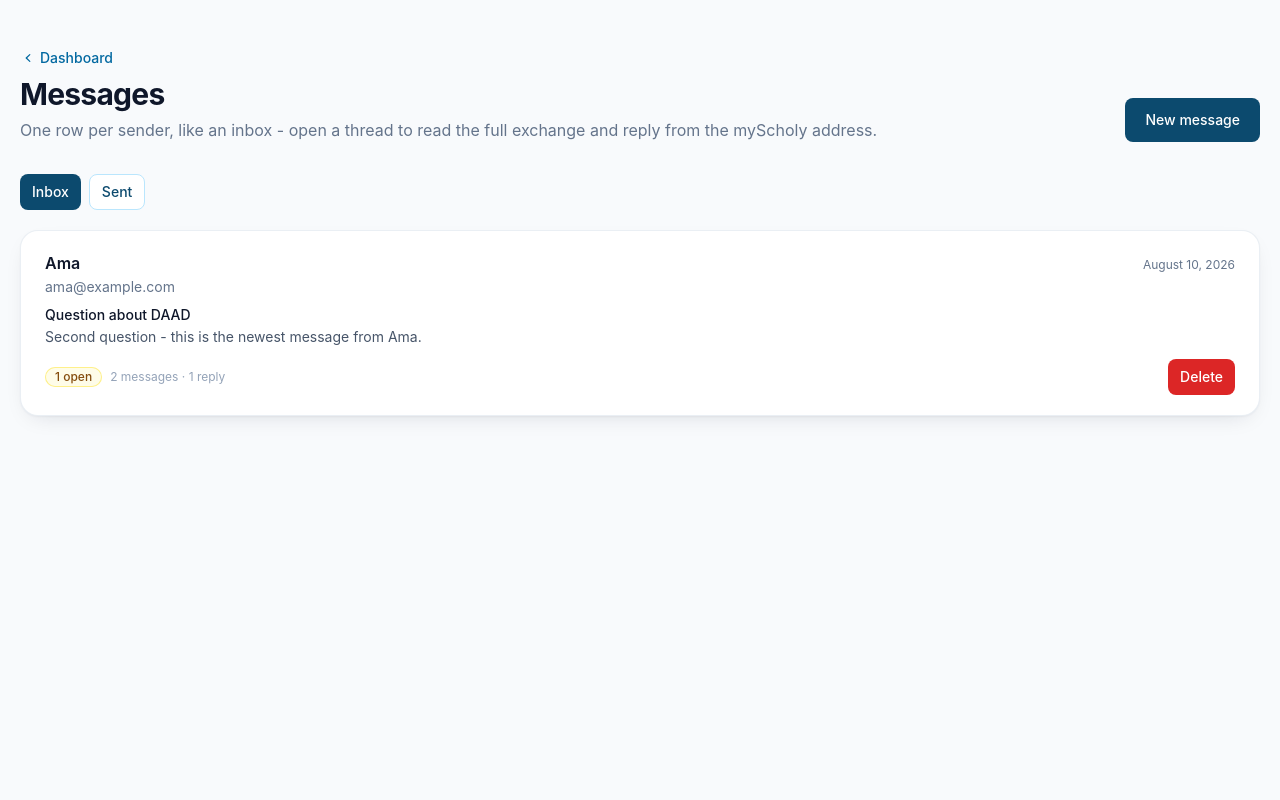
Scenario: AdminMessagesPage › deletes a sender's messages after confirming
The width and height of the screenshot is (1280, 800).
Click the button "Delete". click: (1202, 377)
box: [1168,359,1235,395]
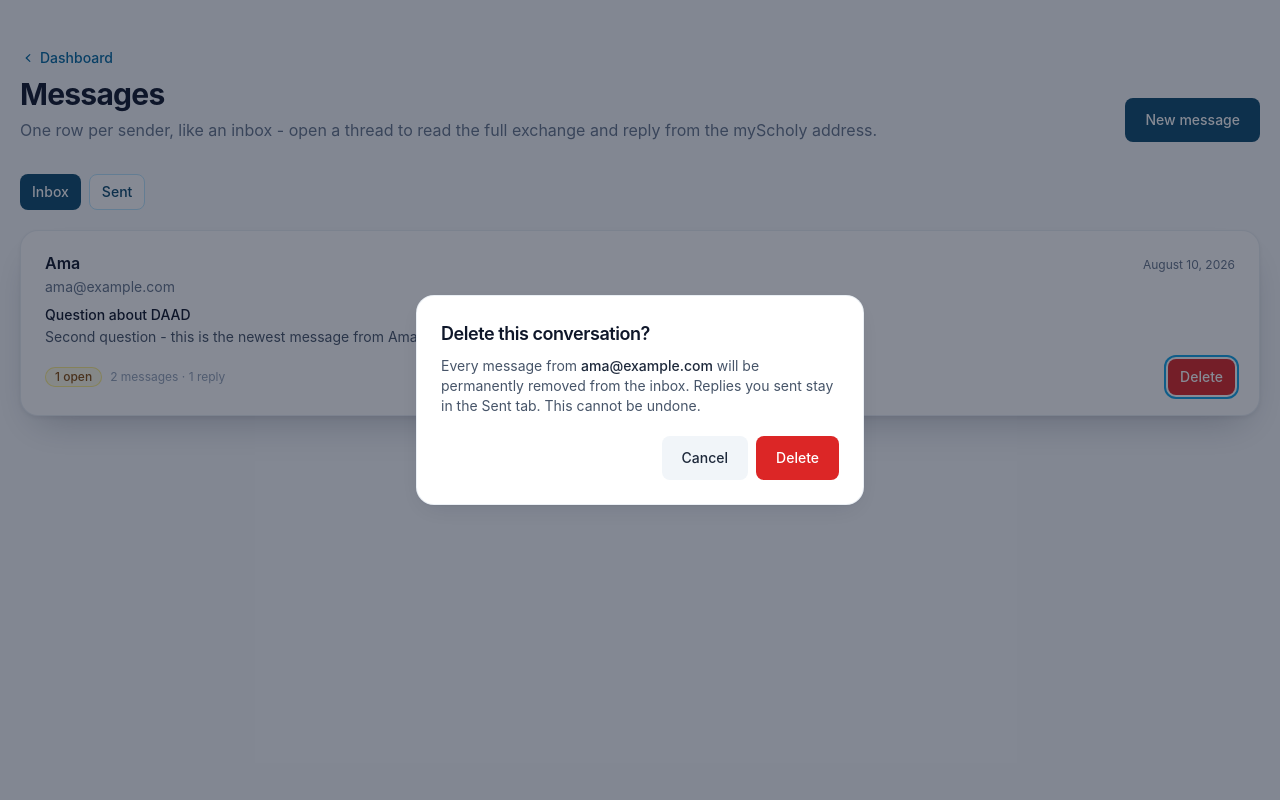
Check: the dialog shows "ama@example.com", box [581,357,713,374]
Check: the dialog shows "cannot be undone", box [441,357,833,414]
Click the button "Delete". click: (798, 458)
box: [756,436,839,480]
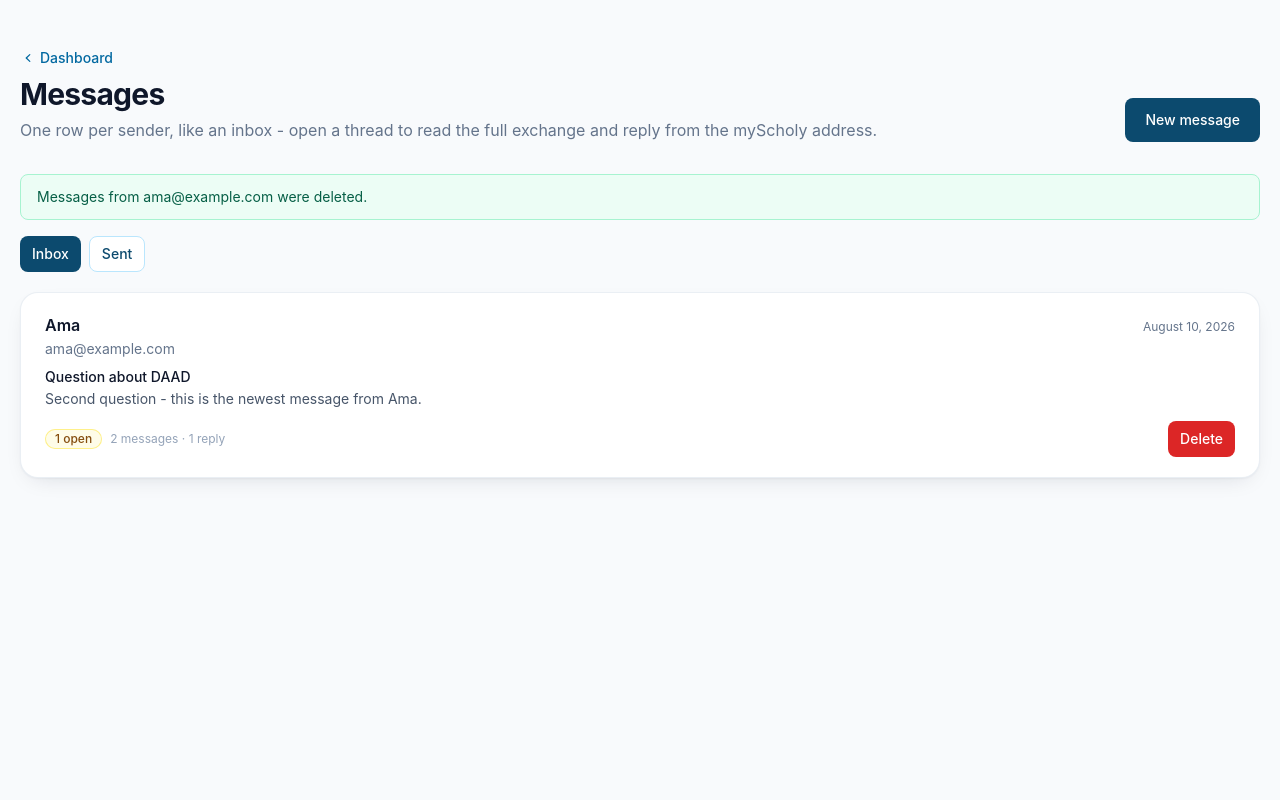
Check: the text "Messages from ama@example.com were deleted." is shown, box [37,188,367,205]
